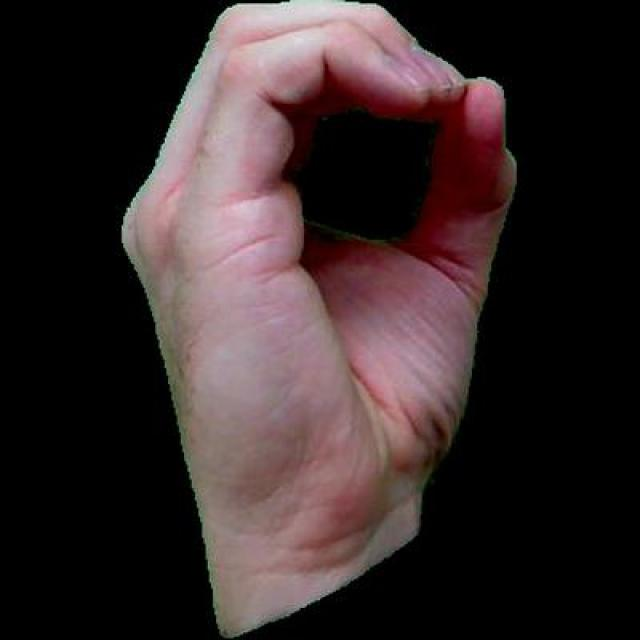o: (101, 0, 536, 637)
